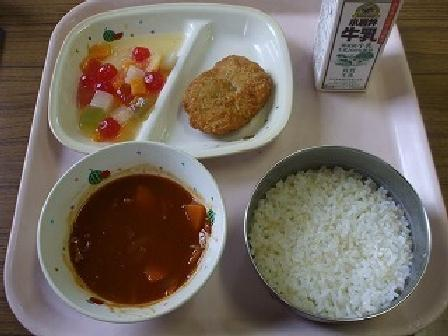Milk: (309, 6, 398, 93)
Rice: (255, 151, 422, 320)
cutlet: (177, 50, 271, 139)
desserts: (65, 35, 169, 135)
soup-plain: (49, 142, 212, 308)
